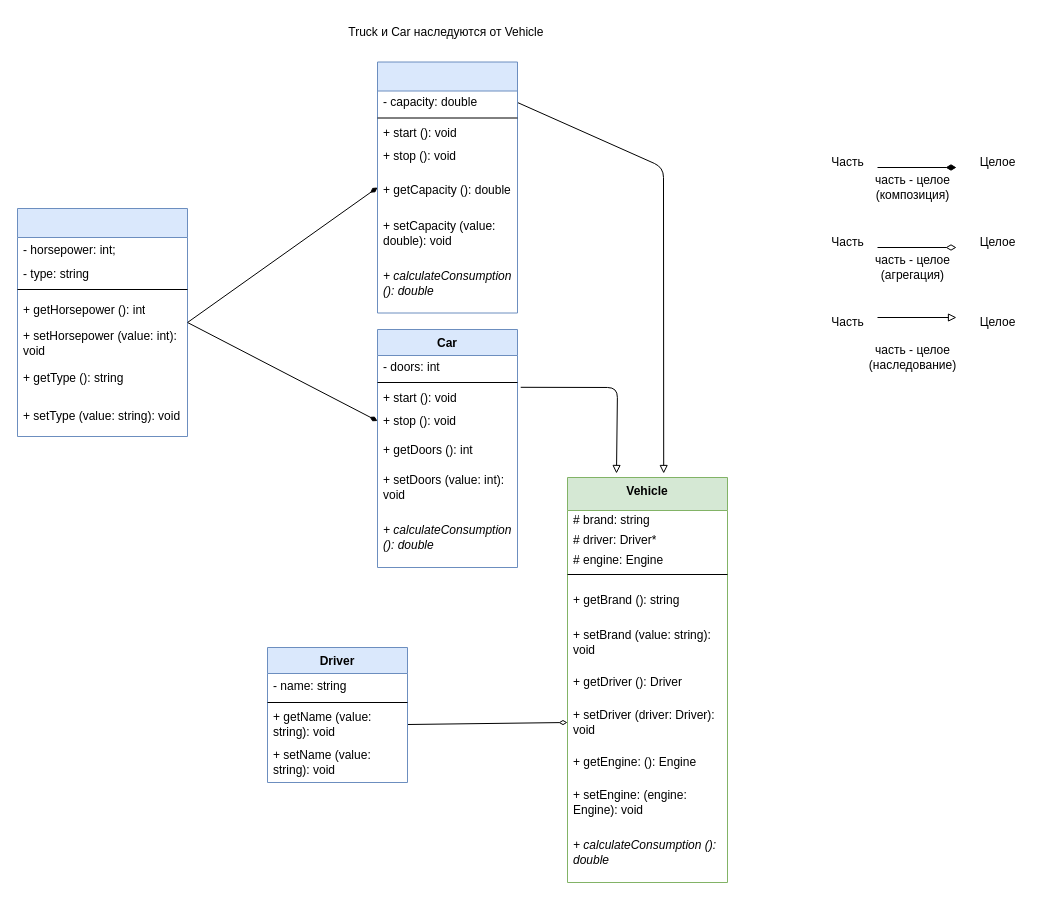
This 1045x900 diagram has some shape labels left out. Each missing label, with the box of its shape:
Engine: (16, 208, 188, 436)
Truck: (376, 61, 518, 313)
